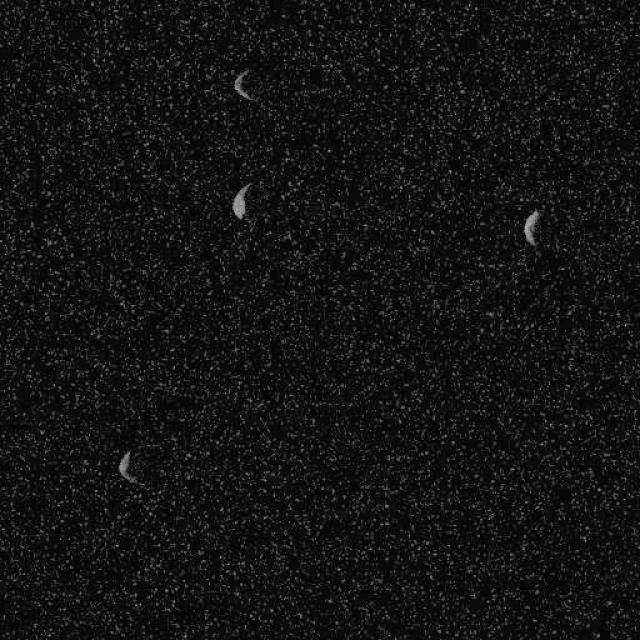D2: (116, 449, 142, 486), (230, 181, 252, 220), (522, 208, 542, 246), (233, 68, 255, 102)
